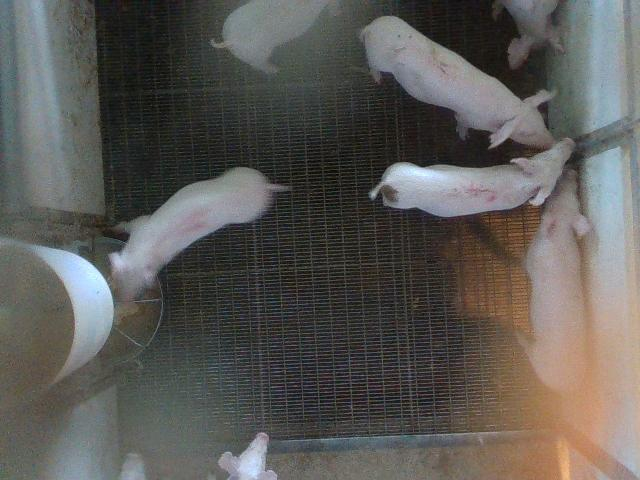pig-4: (111, 168, 289, 299)
pig-5: (369, 139, 574, 217)
